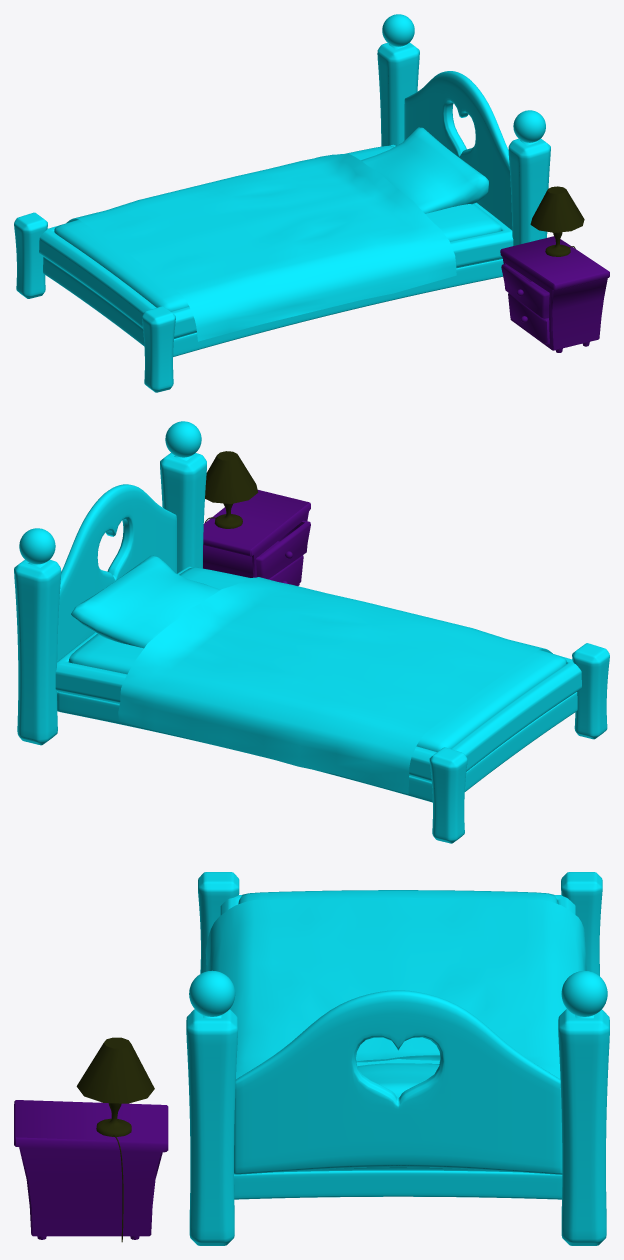
The model's file is IZBA.FBX.
The picture shows the model from 3 angles, top to bottom: view 1: azimuth 30°, elevation 25°; view 2: azimuth 150°, elevation 25°; view 3: azimuth 270°, elevation 25°; orthographic projection. The views are drawn at different scales.
Visible parts, largest first — view 1: POSTEL, STOLIK, LAMPA; view 2: POSTEL, STOLIK, LAMPA; view 3: POSTEL, STOLIK, LAMPA.
Part boxes in pixels (x1,y1,x2,y2): POSTEL: [14, 14, 550, 392]; STOLIK: [500, 236, 609, 352]; LAMPA: [530, 186, 584, 256]; POSTEL: [14, 421, 609, 843]; STOLIK: [203, 490, 310, 585]; LAMPA: [205, 451, 258, 528]; POSTEL: [186, 872, 609, 1245]; STOLIK: [14, 1100, 168, 1239]; LAMPA: [76, 1037, 154, 1242].
Size of what is drawn, in the model's own units: 86.68 by 39.3 by 79.28.
